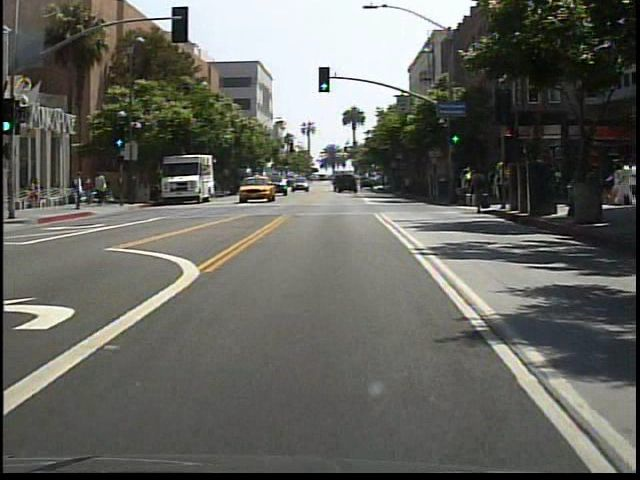person: (72, 170, 88, 213), (94, 169, 111, 205), (30, 177, 44, 209), (83, 174, 96, 205)
